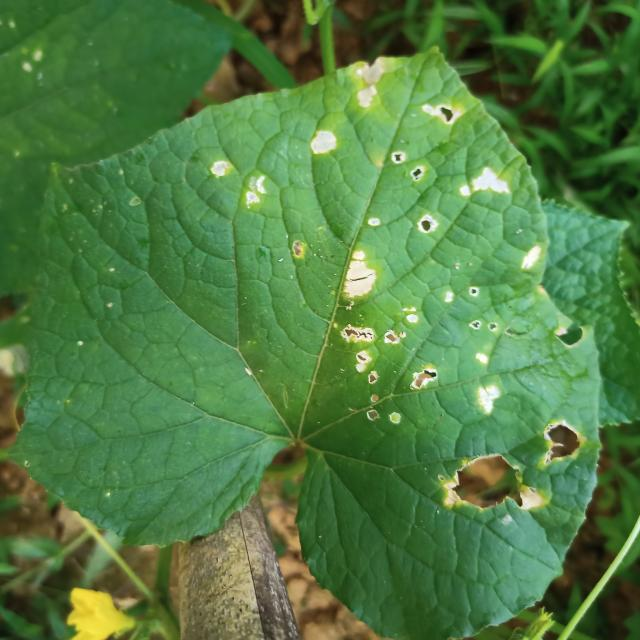disease_cucumber: (338, 305, 439, 428), (437, 452, 542, 517), (208, 158, 270, 208), (541, 421, 586, 466), (343, 247, 377, 303), (457, 166, 513, 200), (351, 62, 386, 110), (419, 97, 462, 127), (391, 148, 425, 183), (306, 127, 341, 159), (474, 380, 502, 418), (517, 240, 543, 273), (417, 215, 438, 234)
